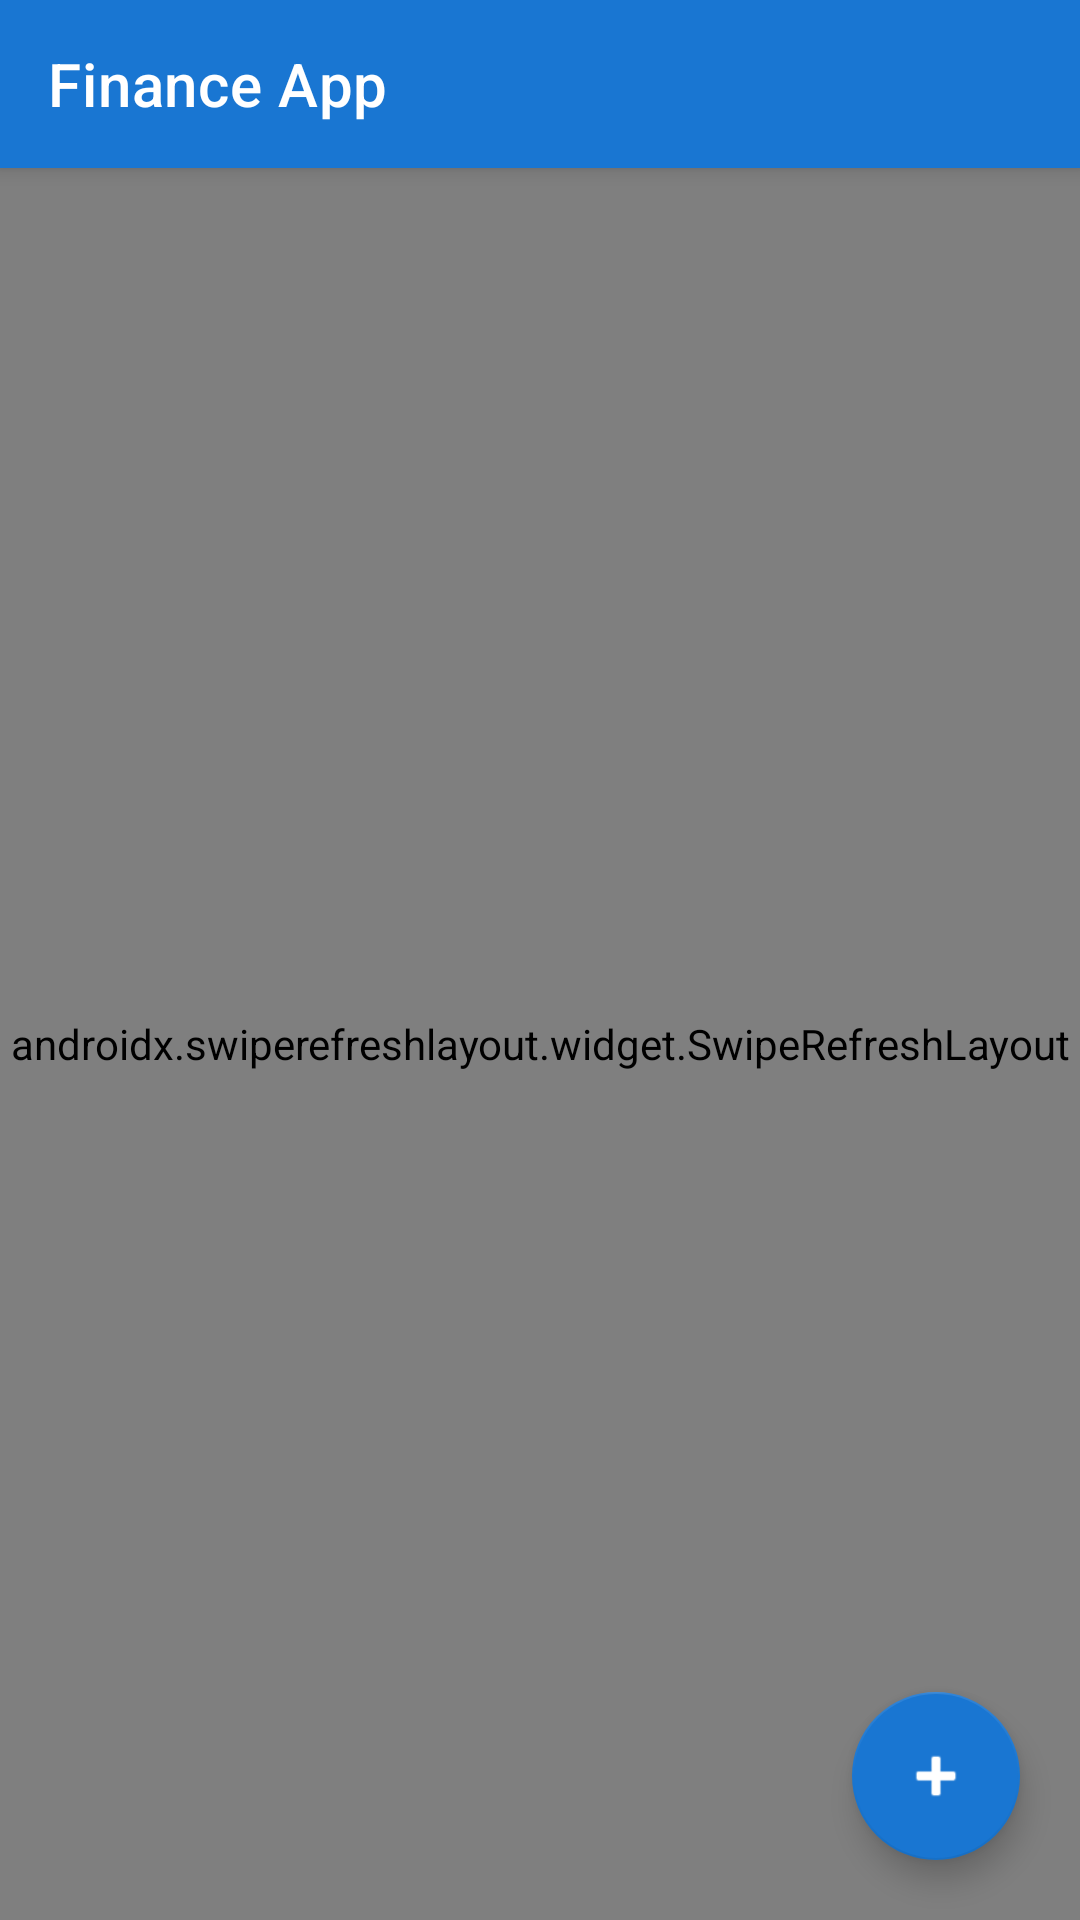

Where icons sit on this 1080 × 1920 app screen, as [x1=x1, y1=y1, x2=x2, y2=y2]:
Tambah Transaksi: [x1=852, y1=1692, x2=1020, y2=1860]
